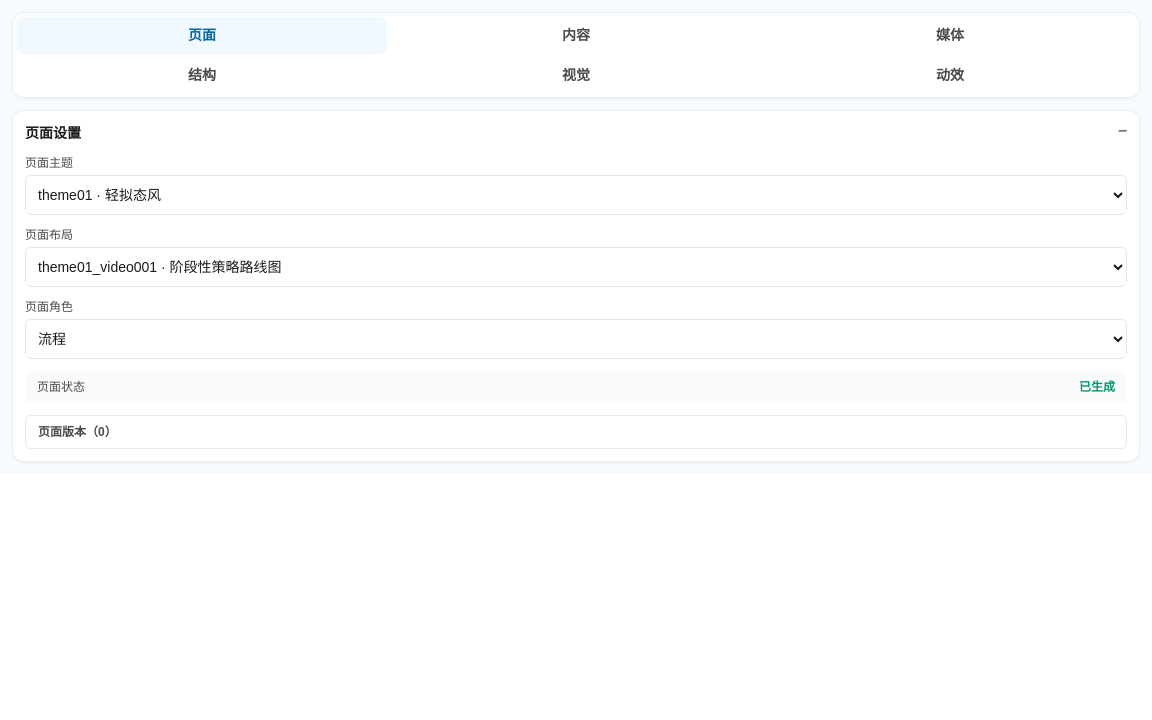
it: NativeDeckPropertyPanel DashiAI fields › supports video media slots without exposing image generation as an available action
Click the tab "媒体" at (950, 35), box [765,17,1135,53]
(page scrolled)
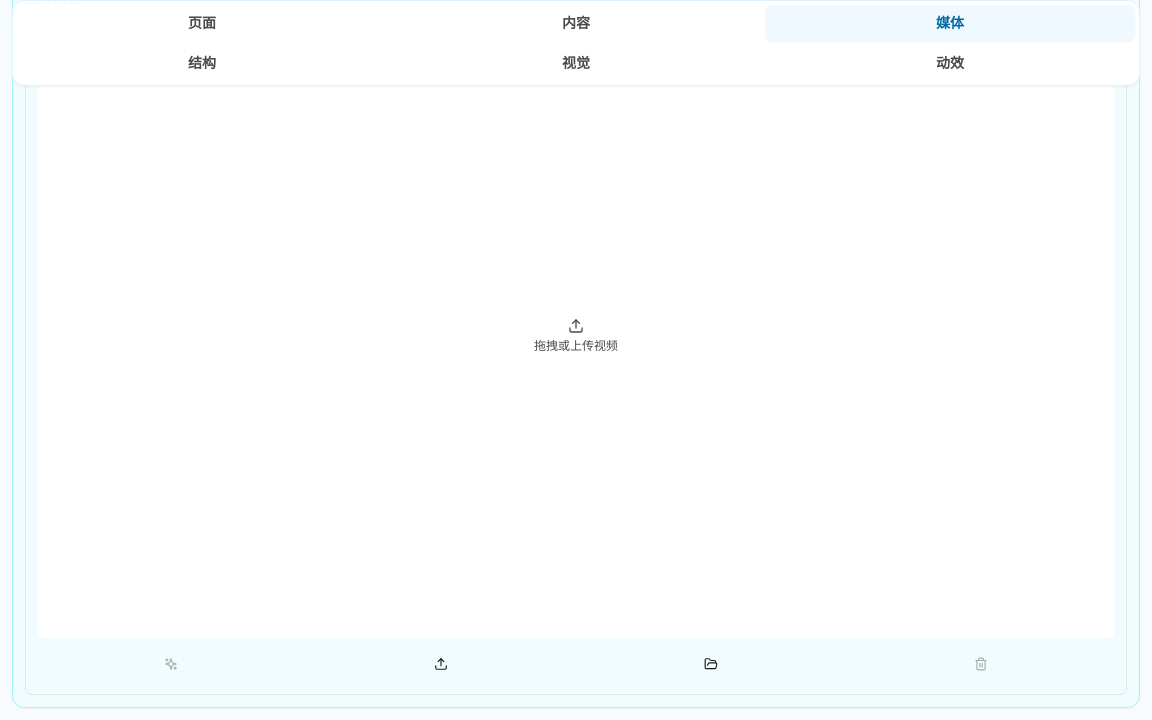
Expected: the button named "生成 videos 1" is disabled, [38,646,304,682]
